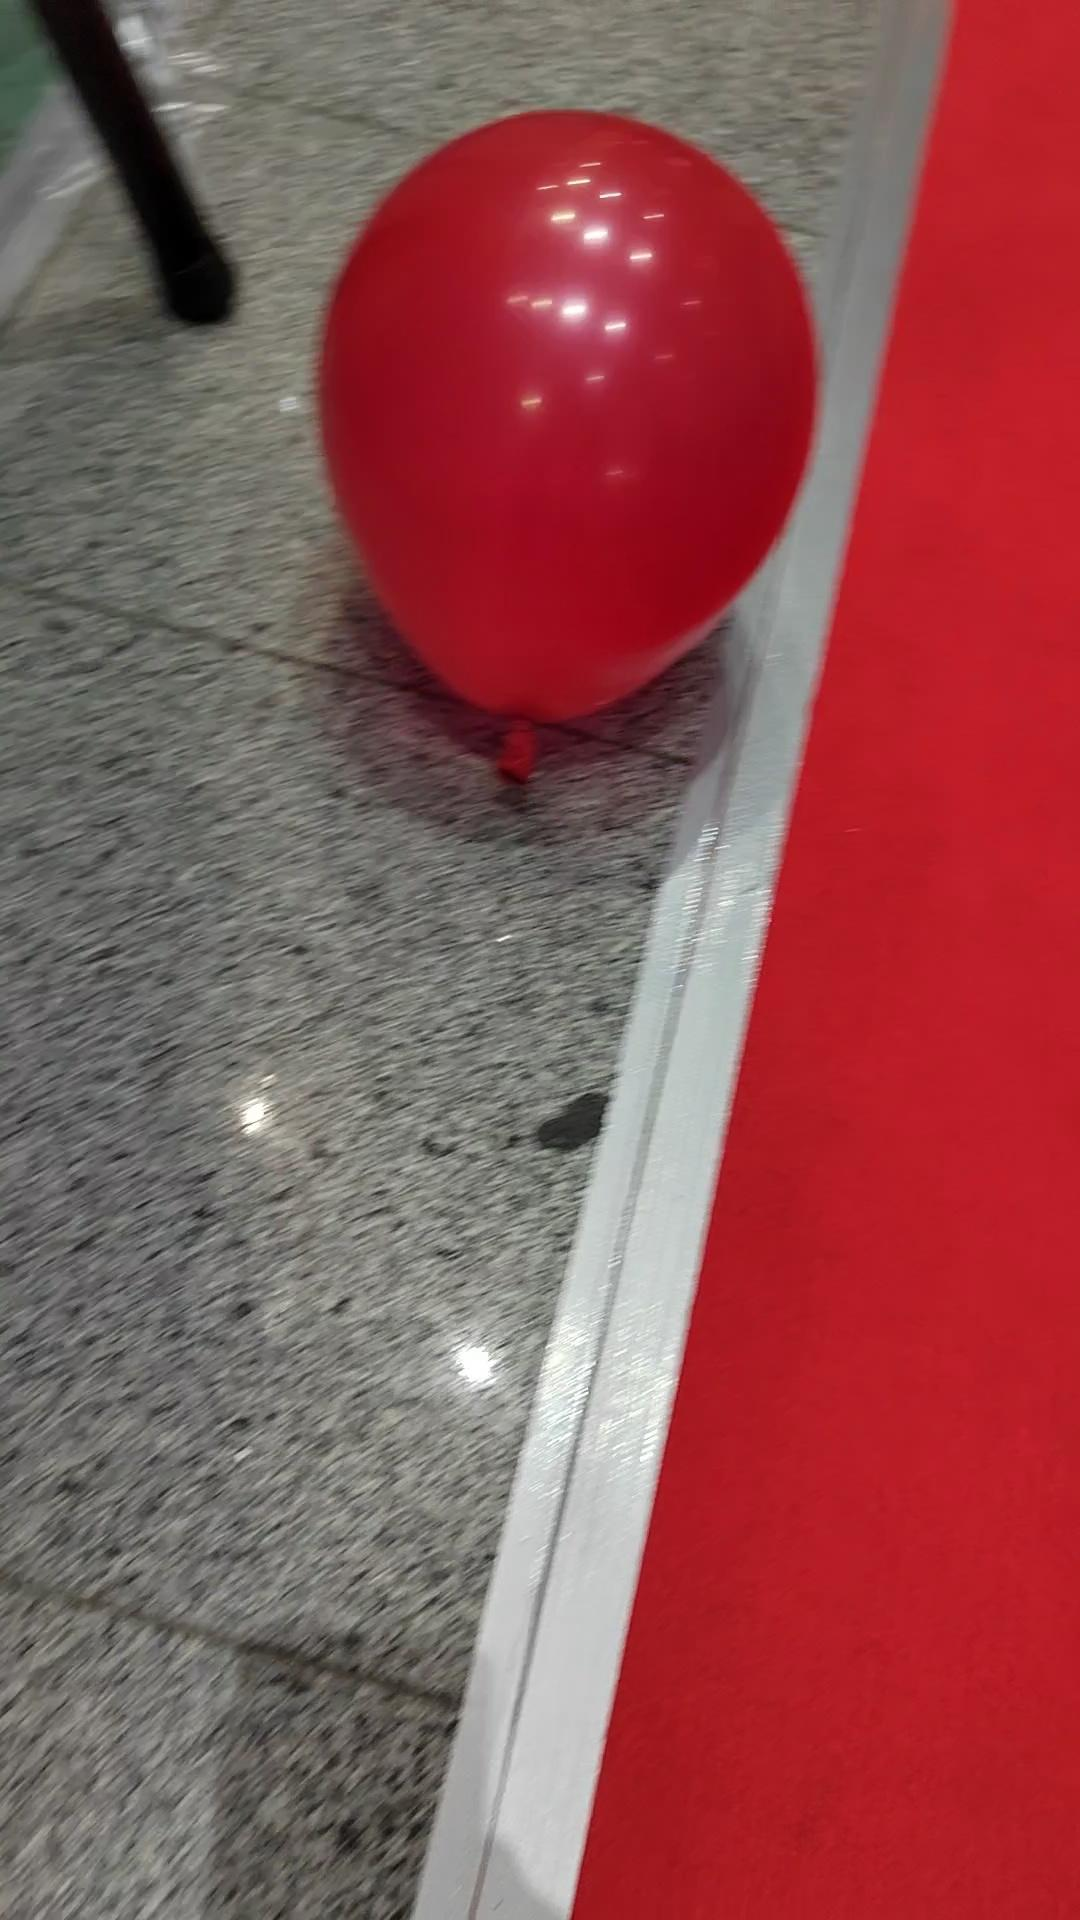red: (318, 110, 824, 753)
